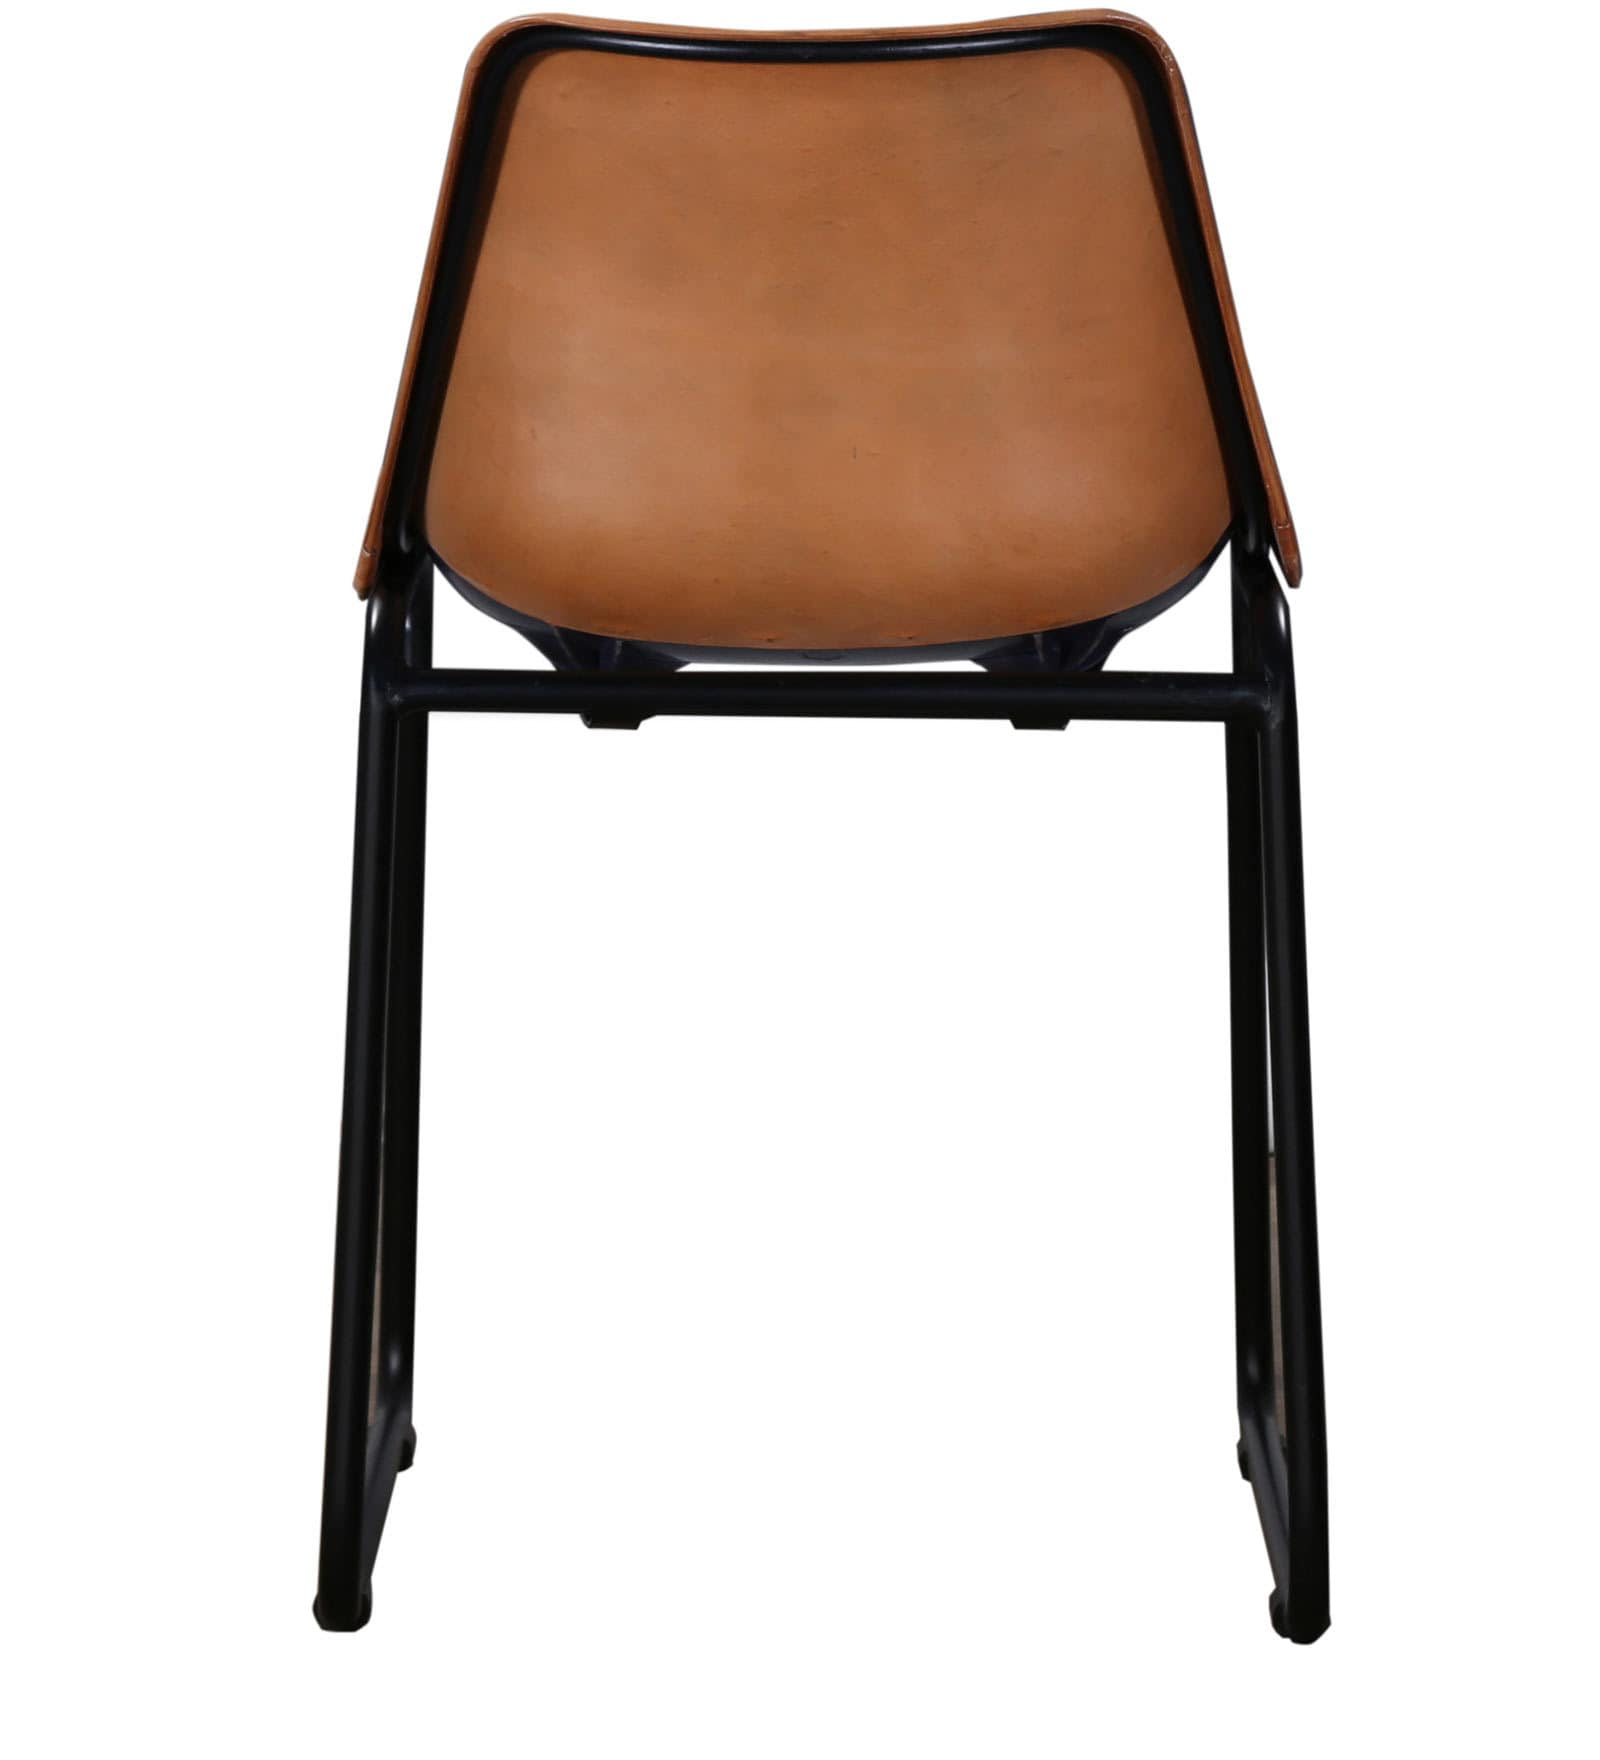Medina Natural Color Leather Accent Chair by Bohemiana: (300, 8, 1349, 1633)
